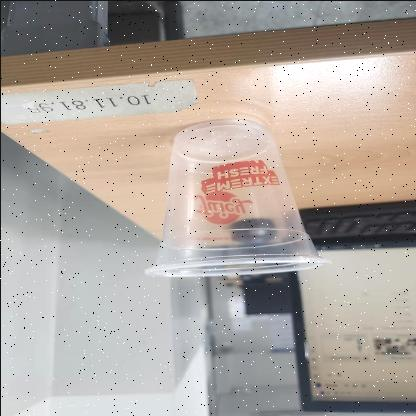Others: (144, 118, 328, 278)
